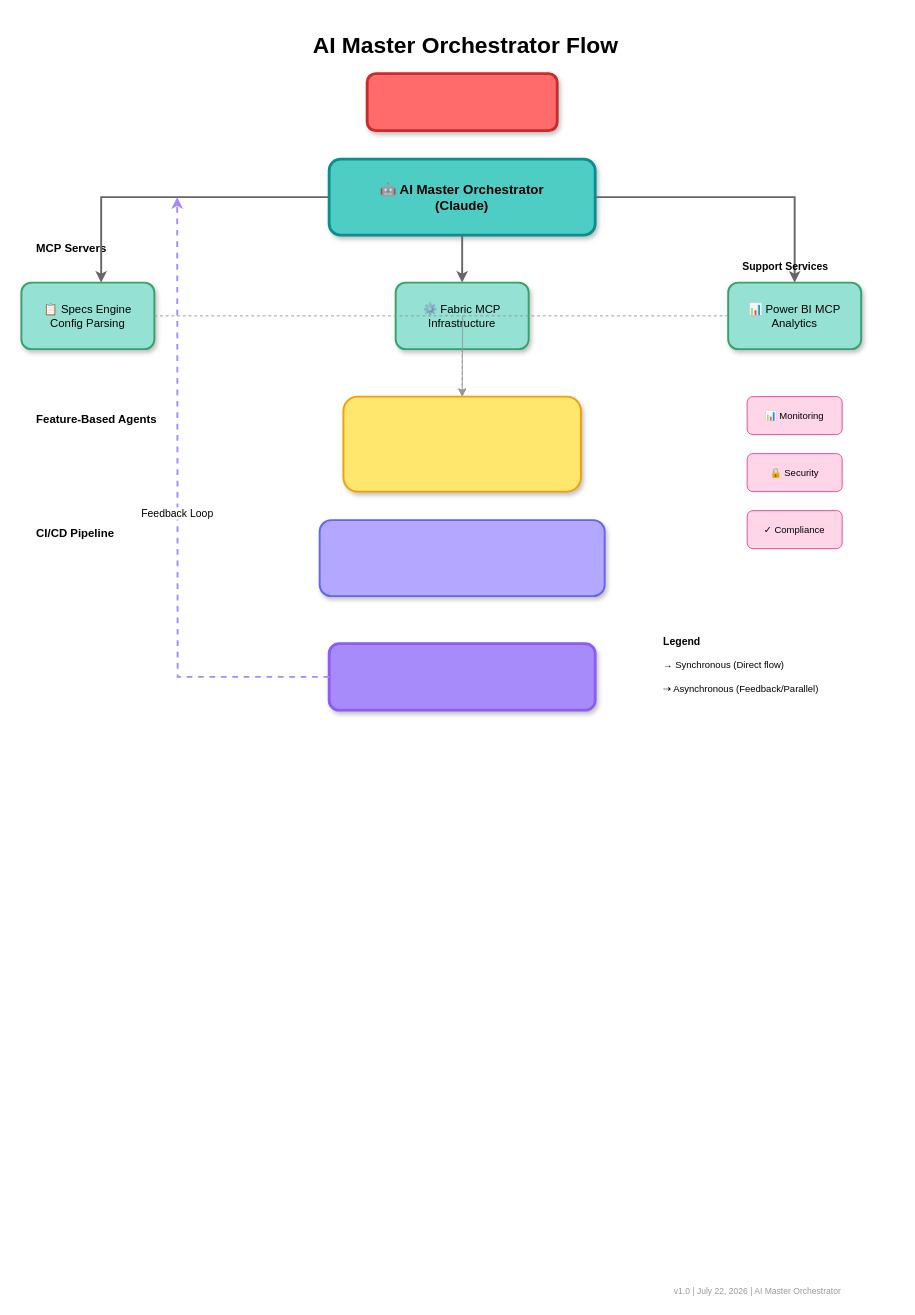
This 915x1315 diagram has some shape labels left out. The centre of each missing label's shape, as x and y in pixels:
"GitHub Actions 📌 Test → Deploy Dev → Deploy QA → Approval → Prod" goes at (x=462, y=559).
"✨ Enterprise AI Solution" goes at (x=462, y=678).
"🎯 Business Goal" goes at (x=462, y=103).
"🔄 Data Ingestion 🔀 Transform (DBT) ✓ Quality Validation 📊 Analytics 🚀 DevOps" goes at (x=462, y=445).
